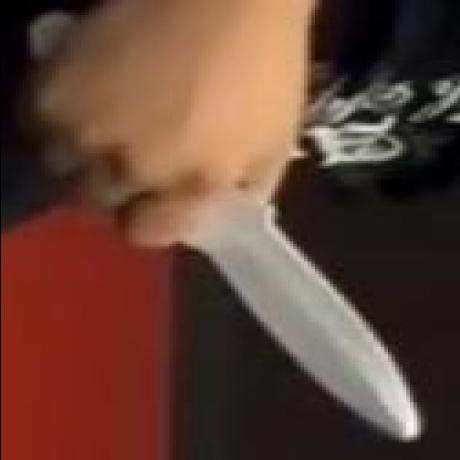weapon: (211, 216, 424, 444)
